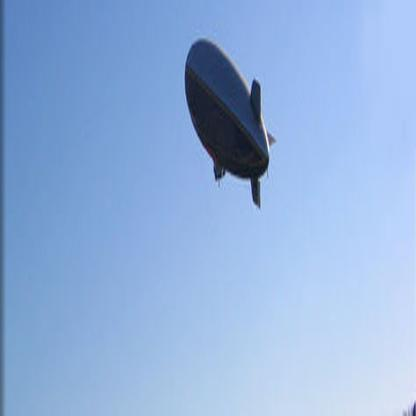Airship: (185, 36, 287, 212)
